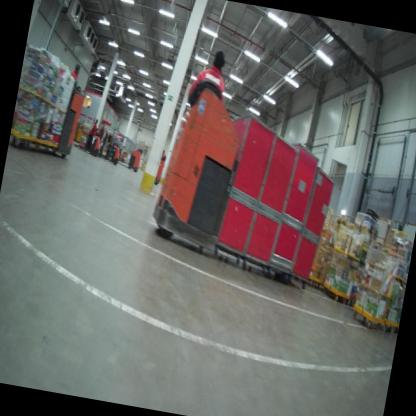pallet_truck: (147, 76, 255, 268), (48, 79, 91, 161), (79, 122, 105, 159), (143, 156, 167, 190), (114, 145, 143, 173), (96, 136, 123, 166)
